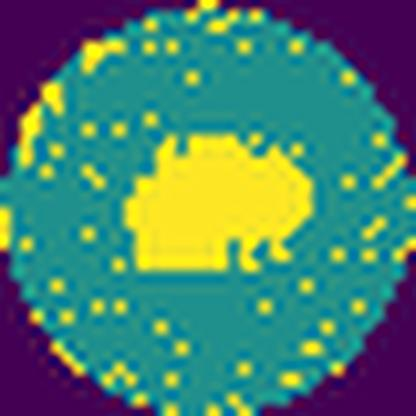Center: (126, 132, 312, 270)
